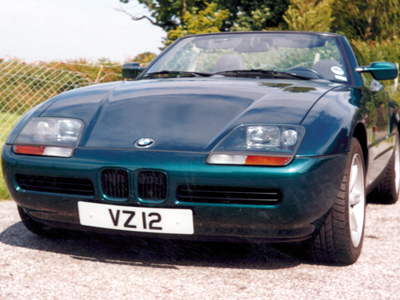licencePlate: (77, 199, 199, 236)
